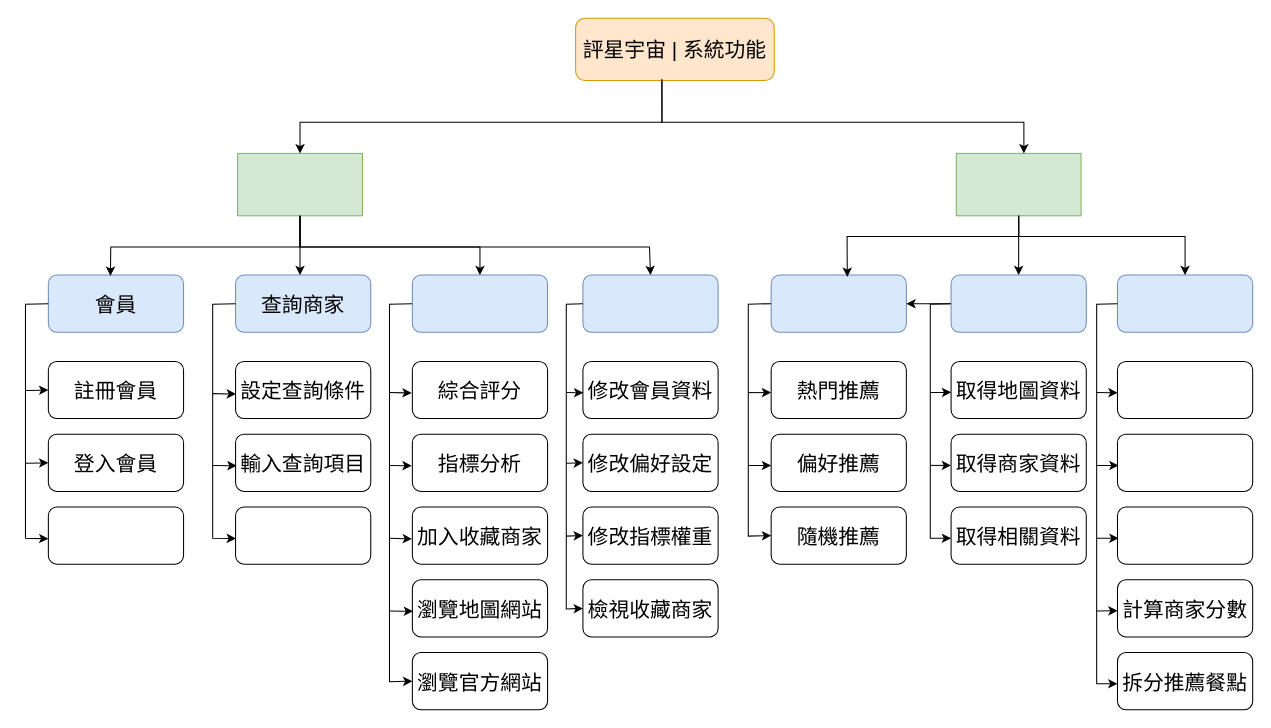
Some shapes in this 1271 by 728 pixel diagram are drawn without their labels. The shapes that lost their labels are listed below. From the top down, each one's box as (x1, y1, x2, y2) in pixels, then its label:
(237, 152, 362, 216): 使用者
(955, 152, 1081, 216): 系統
(411, 274, 548, 332): 檢視資訊
(582, 274, 718, 332): 會員資料
(770, 274, 906, 332): 推薦商家
(950, 274, 1086, 332): 爬取資料
(1116, 274, 1253, 332): 文本分析
(1116, 360, 1253, 419): 分析評論情感
(1116, 433, 1253, 491): 劃分評論立場
(47, 506, 184, 564): 忘記密碼
(235, 506, 371, 564): 選擇查詢位置
(1116, 506, 1253, 564): 劃分指標類型
